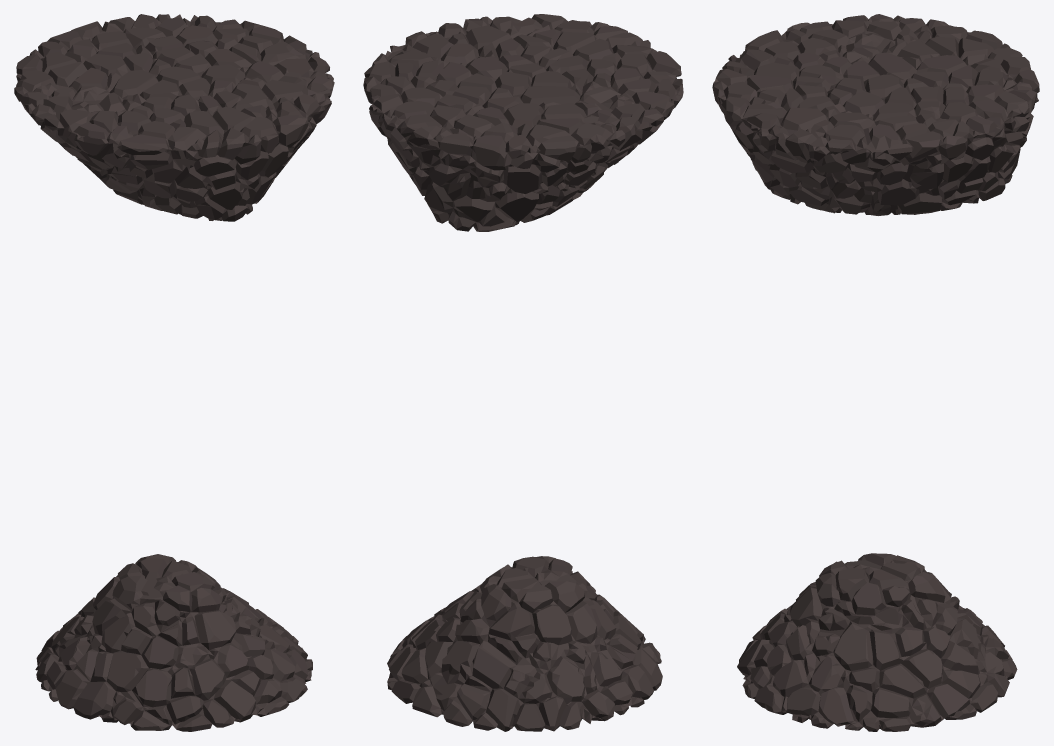
The model's file is StoneBig03.fbx.
The picture shows the model from 3 angles, left to right: view 1: azimuth 30°, elevation 25°; view 2: azimuth 150°, elevation 25°; view 3: azimuth 270°, elevation 25°; orthographic projection.
Visible parts, largest first — view 1: Cylinder.002; view 2: Cylinder.002; view 3: Cylinder.002.
Boxes of the visible parts, x1,y1,x2,y2 form: Cylinder.002: (14, 14, 334, 731); Cylinder.002: (363, 14, 683, 731); Cylinder.002: (712, 14, 1039, 731).
Size of the model in its own units: 307 by 632 by 312.
